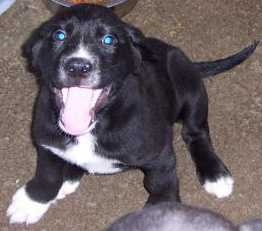dog: (11, 3, 199, 215)
